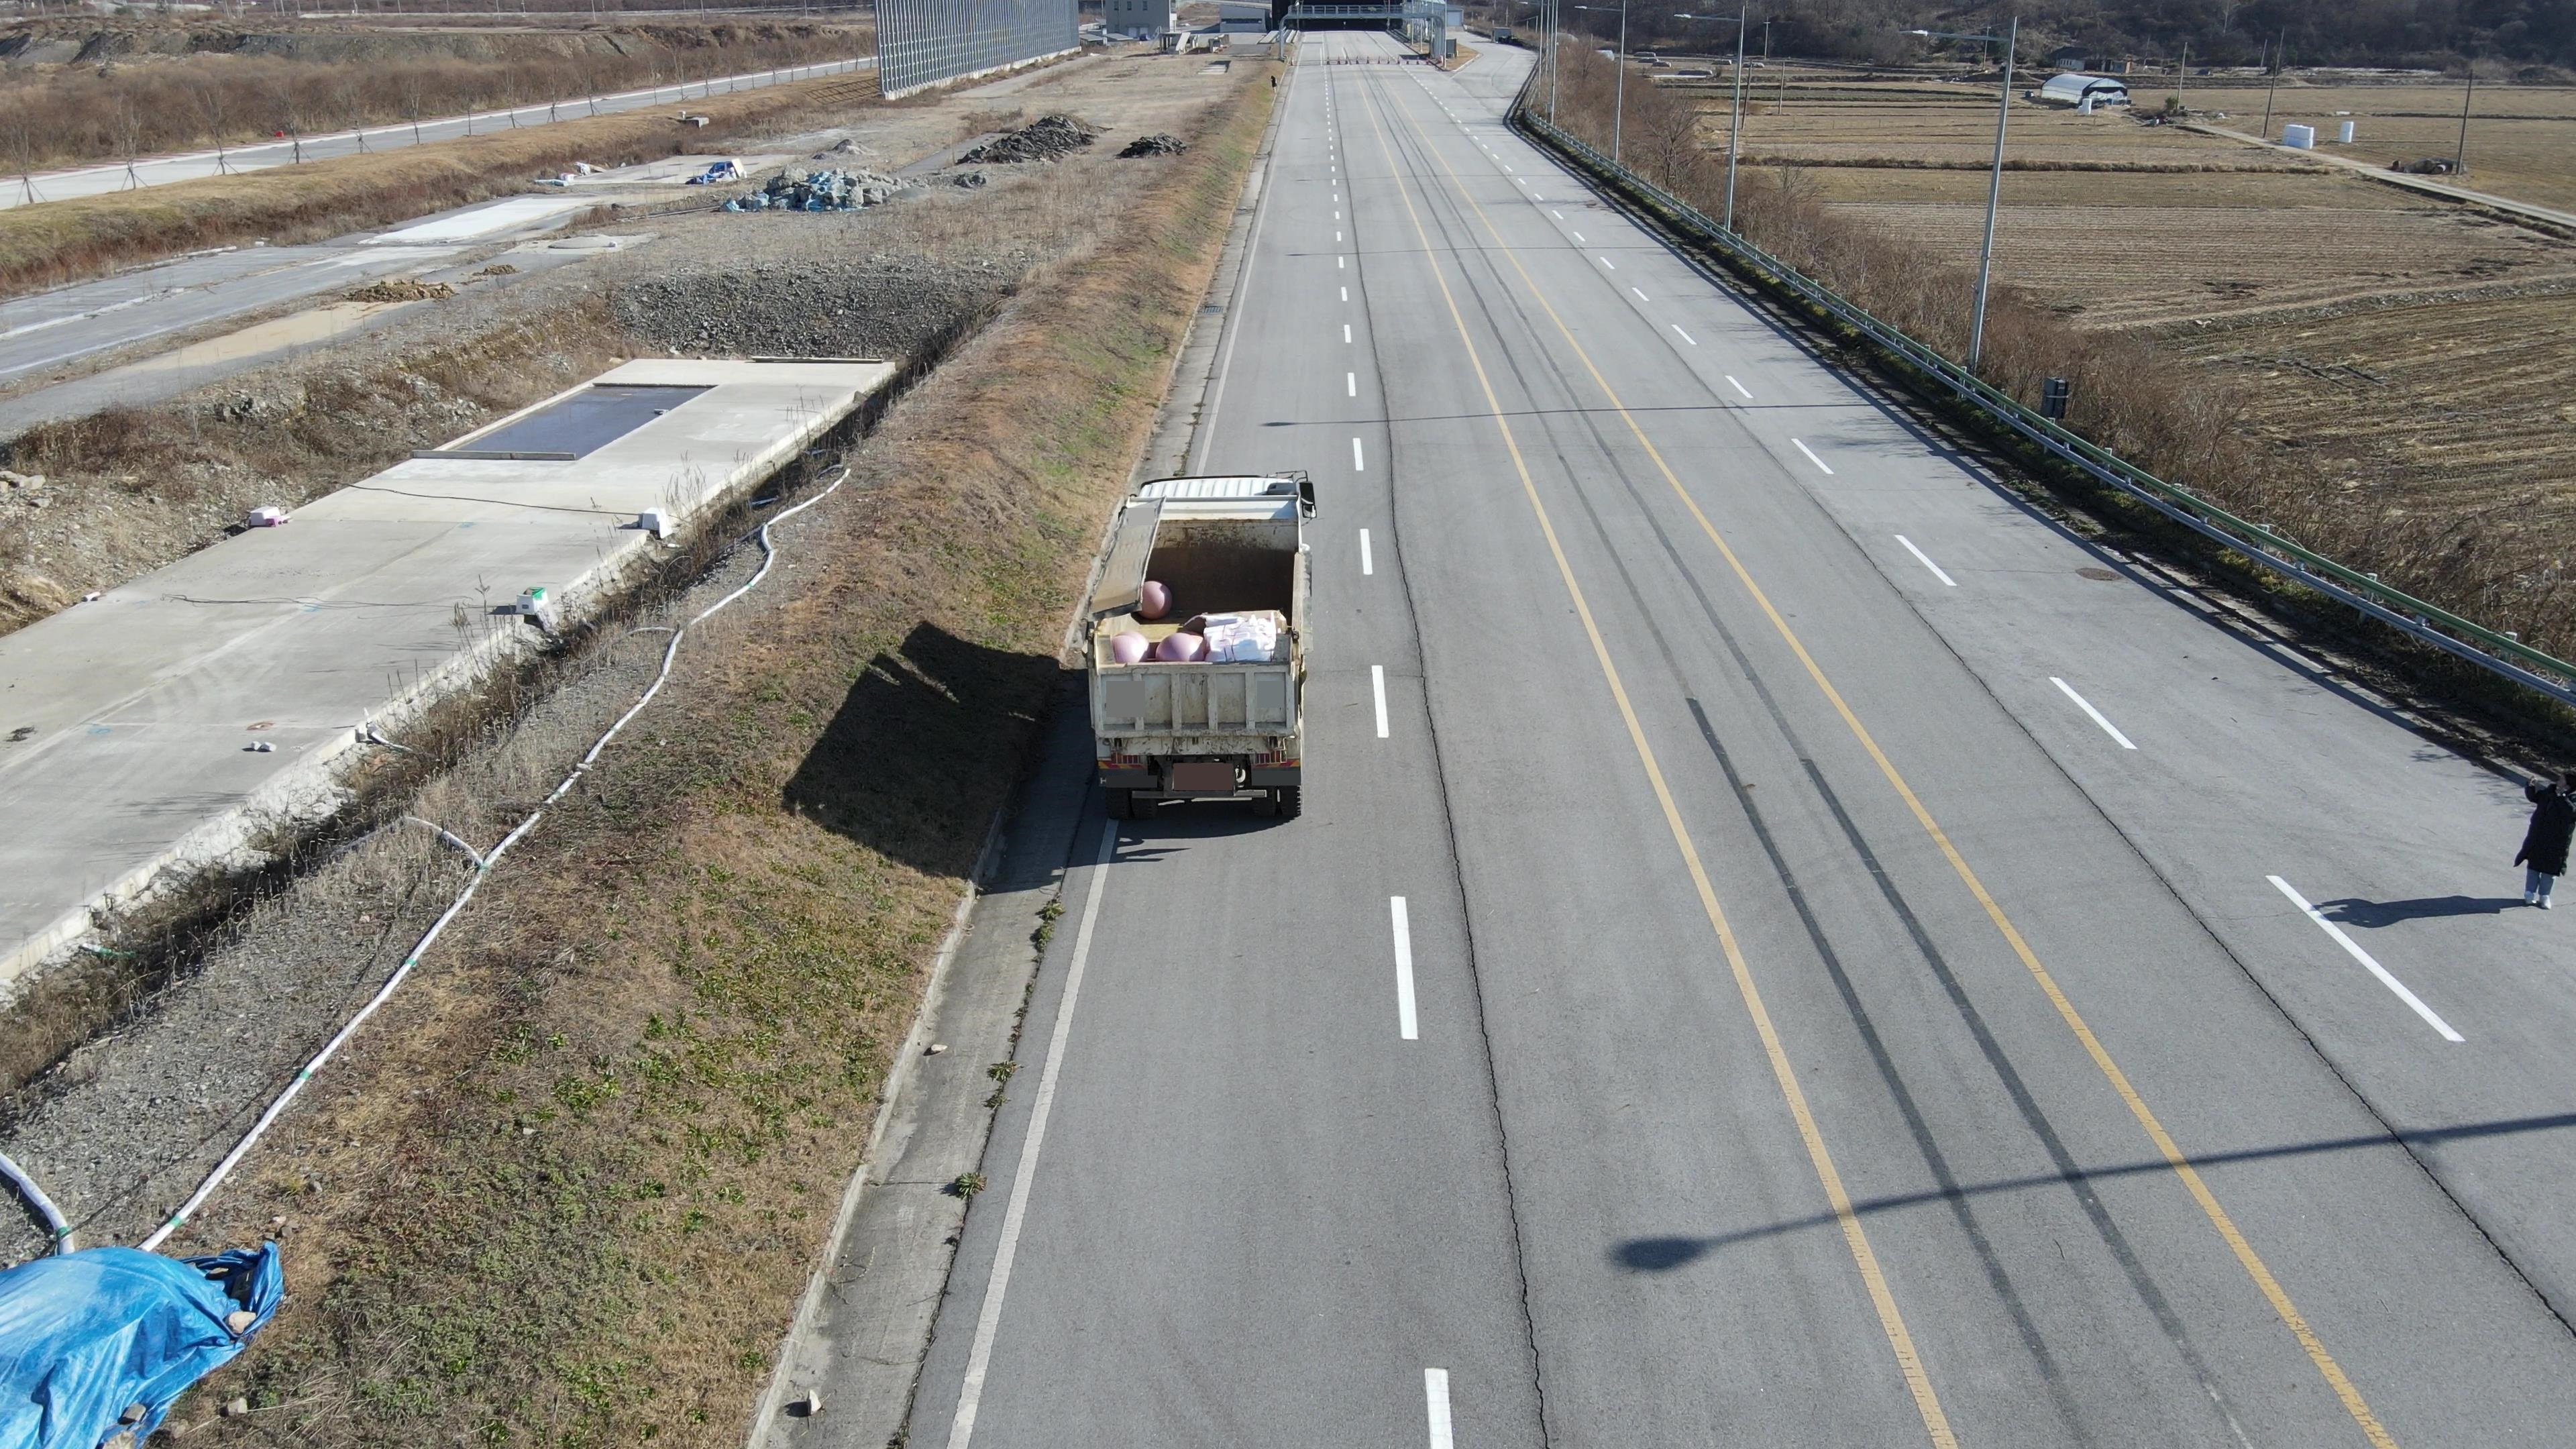불법차량: (1081, 469, 1318, 819)
